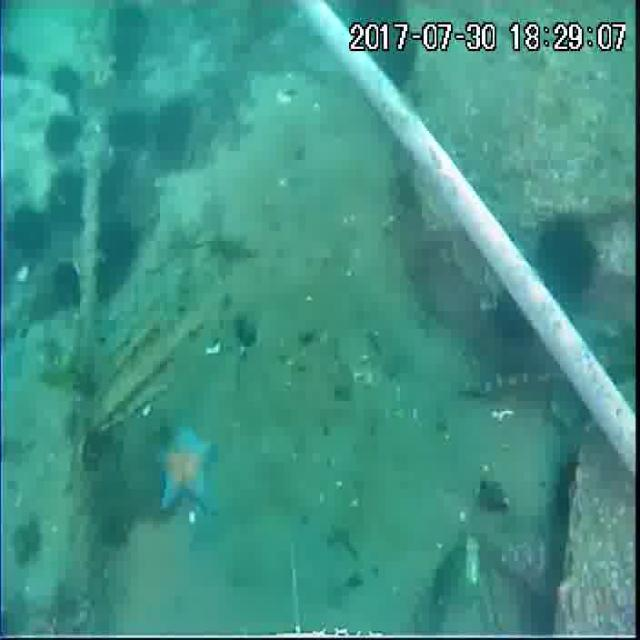echinus: (538, 212, 602, 297), (148, 96, 196, 166), (7, 204, 52, 270), (493, 286, 540, 348), (375, 26, 420, 84), (112, 3, 147, 68), (94, 219, 138, 270), (96, 157, 133, 216), (105, 106, 147, 156), (49, 173, 86, 229), (50, 259, 85, 311), (44, 112, 82, 159), (353, 0, 405, 30), (47, 62, 84, 102), (0, 51, 31, 81)
starfish: (152, 418, 214, 518)
